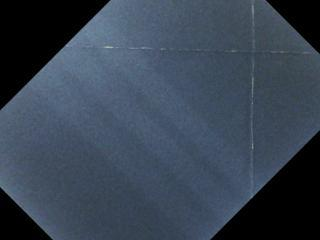crack: (66, 37, 320, 62), (242, 0, 263, 201)
